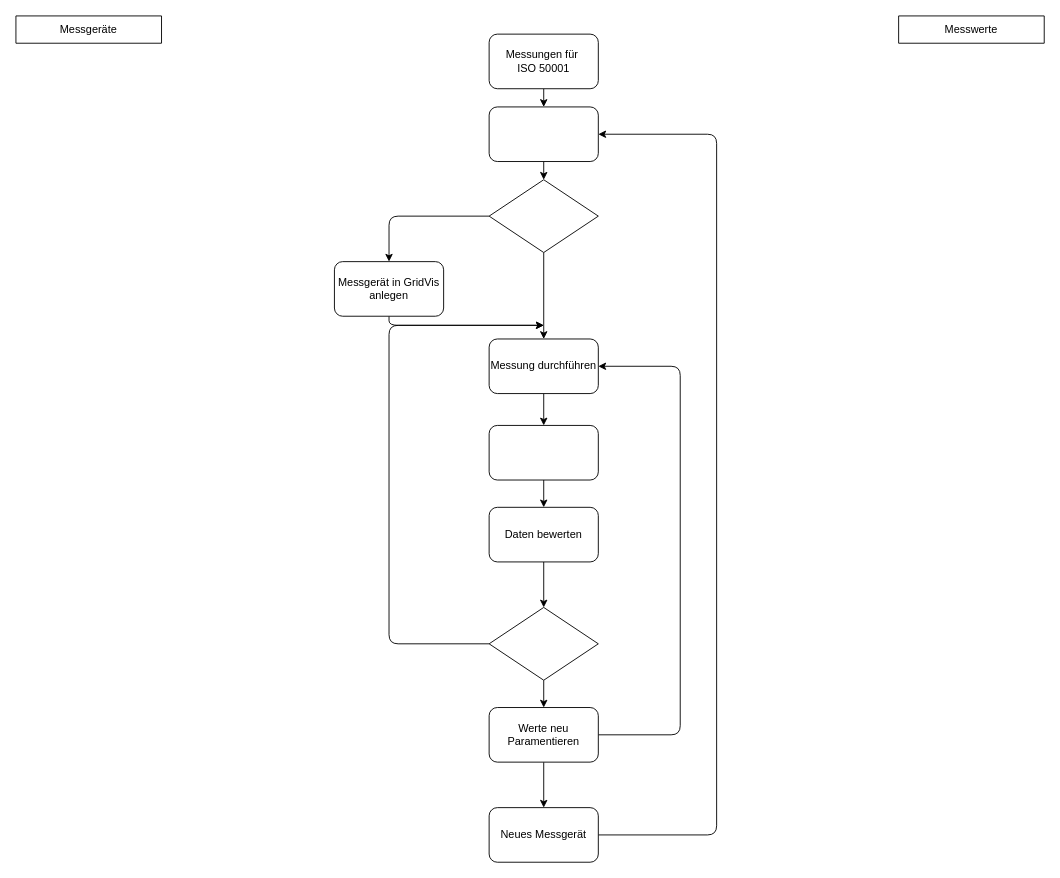
Some shapes in this 1060 by 878 pixel diagram are drawn without their labels. The centre of each missing label's shape, as x and y in pixels:
Daten aufschreiben: point (543, 452)
Daten i.O.: point (543, 643)
Messgerät anschließen: point (543, 134)
Messgerät in Gridvis vorhanden ?: point (543, 216)
